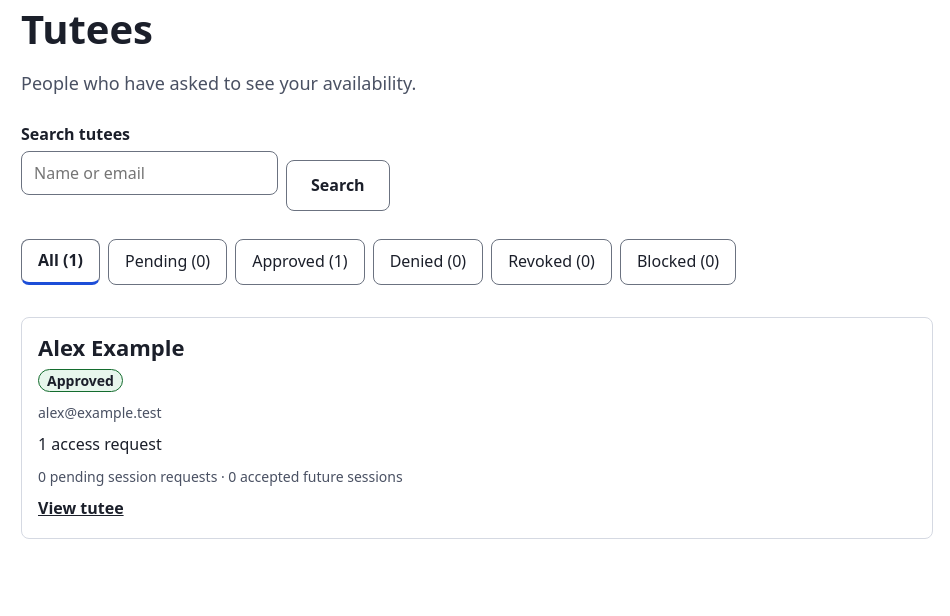
Test case: tutees list page › keeps previous results when a search fails
This screenshot has width=950, height=616.
Expected: the heading "Alex Example" is shown, top-left (38, 332), bottom-right (184, 362)
Type "x" into the field labelled "Search tutees".
click(150, 173); type("x")  # box top-left (21, 151), bottom-right (278, 195)
Then press Enter
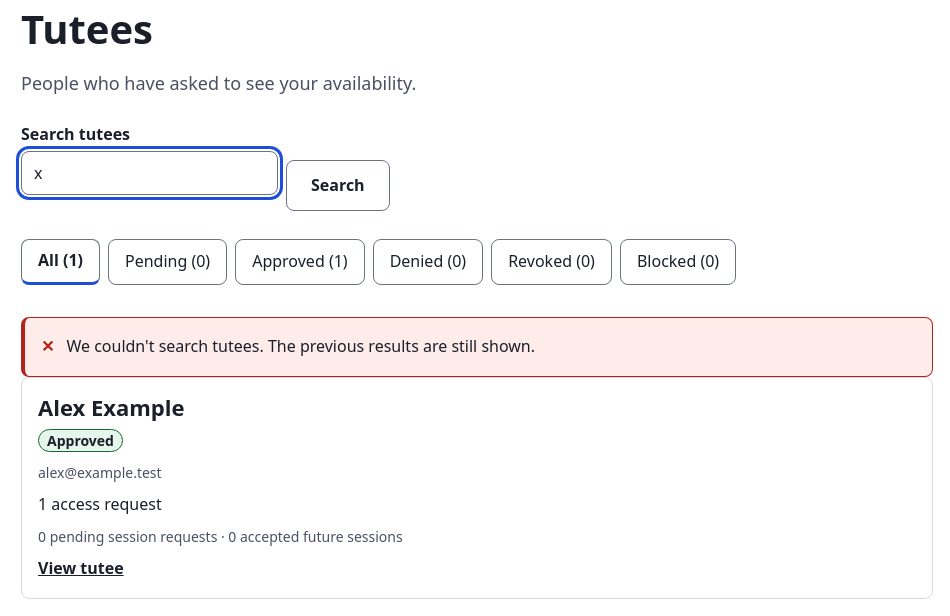
Expected: the heading "Alex Example" is shown, top-left (38, 392), bottom-right (184, 422)
Now the message shows "previous results are still shown", box top-left (66, 335), bottom-right (535, 357)
